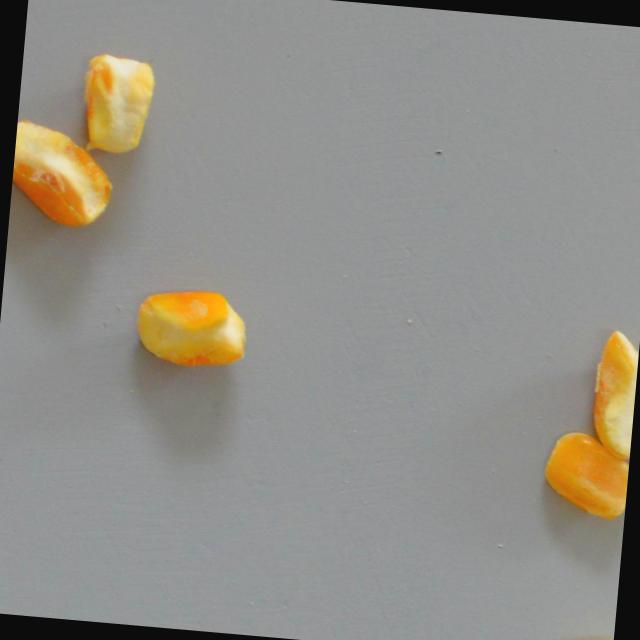dañado: (7, 117, 120, 232)
pelicula: (131, 284, 251, 376), (67, 50, 160, 156), (538, 428, 631, 524), (585, 327, 640, 462), (561, 631, 614, 640)
